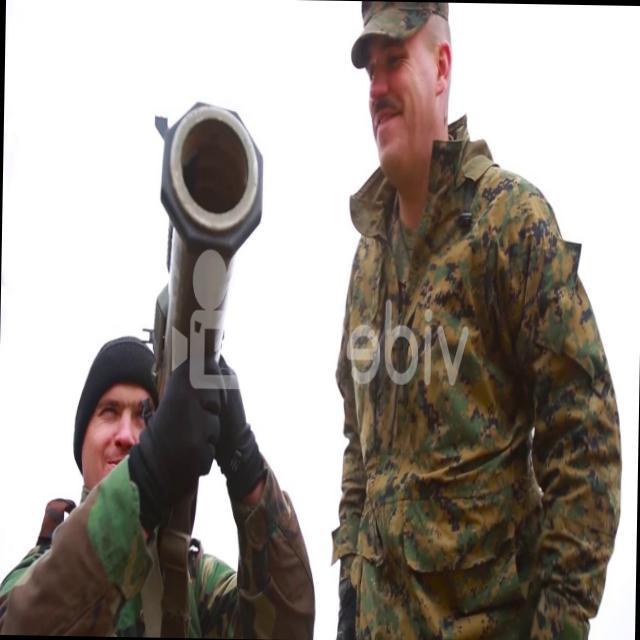rocket: (156, 92, 264, 391)
